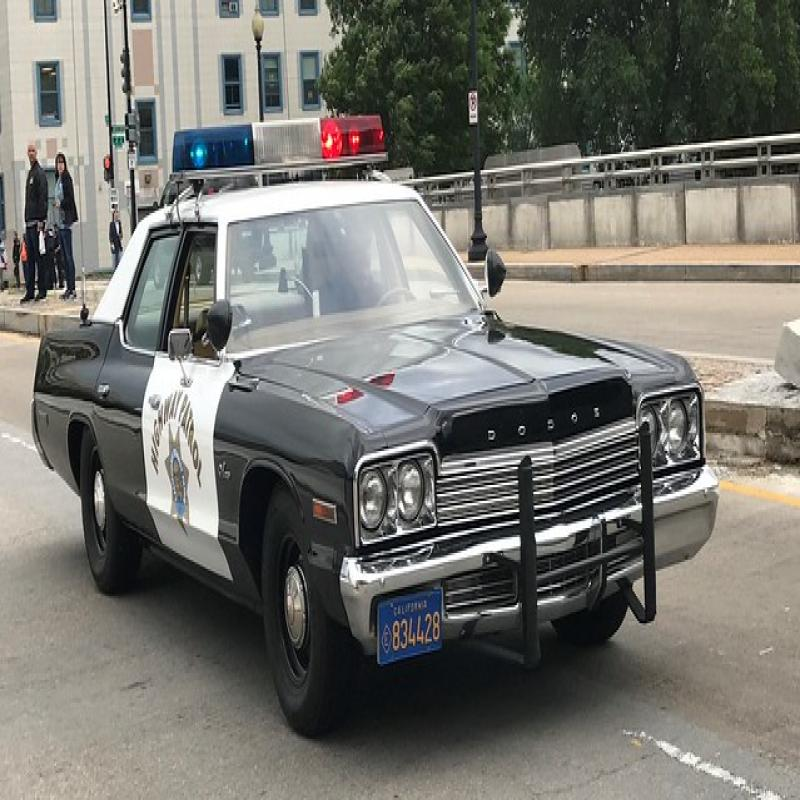AmbulanceSiren: (168, 108, 385, 174)
